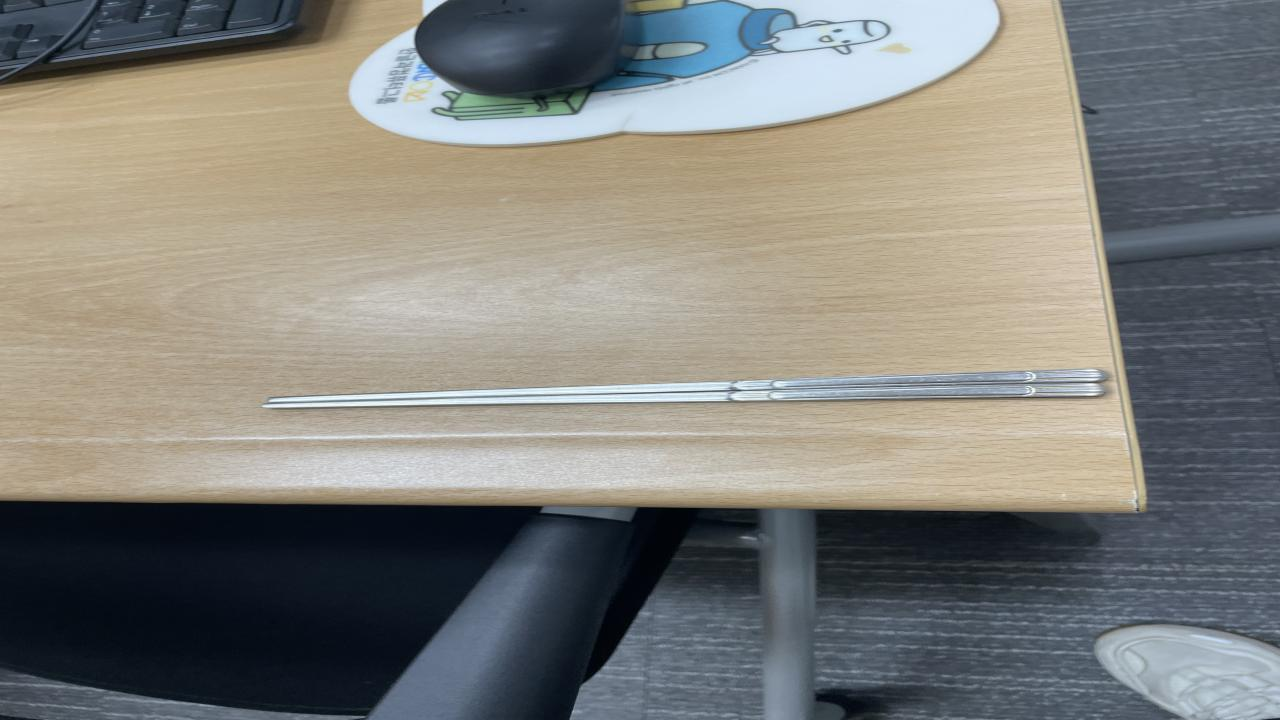chopstick: (267, 369, 1107, 410)
